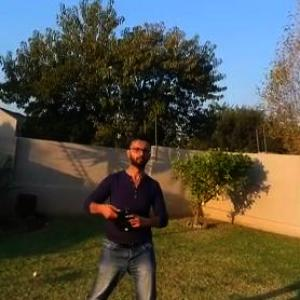follow: (74, 129, 175, 299)
